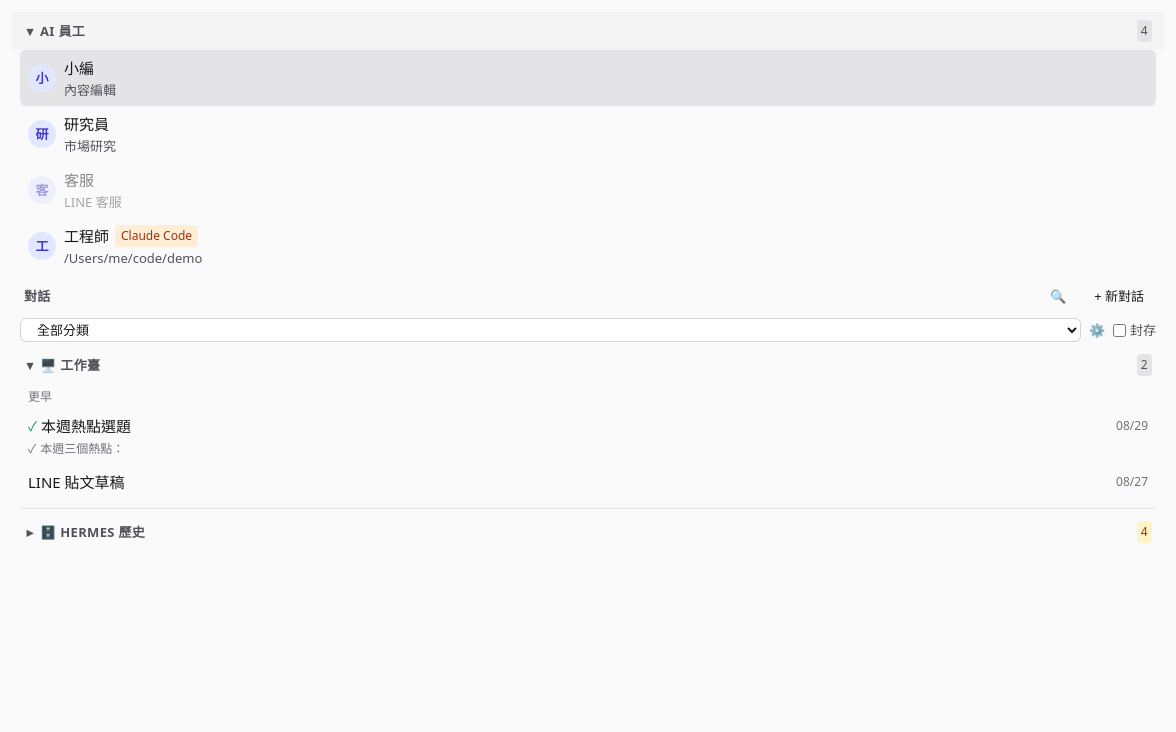
Scenario: 工作臺整合（mock fetch + 假 WebSocket） › 手機版：清單優先，點對話進聊天室，「‹ 對話」回清單
Expected: the element with test id "session-sidebar" is shown, x1=20 y1=280 x2=1156 y2=547
Click the text "本週熱點選題" at coordinates (86, 426), box x1=41 y1=416 x2=131 y2=436
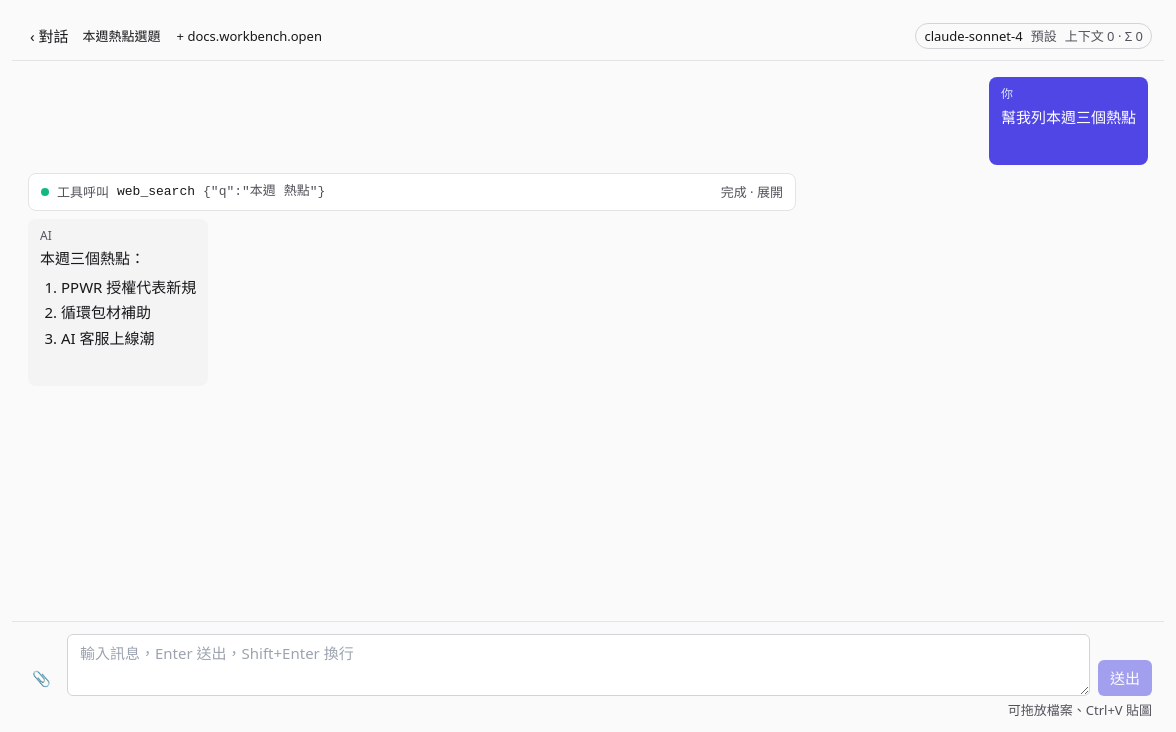
Now the element with test id "message-list" is shown, box x1=12 y1=61 x2=1164 y2=406
Now the button with test id "mobile-back" is shown
Now the element with test id "session-sidebar" is gone
Click the button with test id "mobile-back" at coordinates (49, 36), box x1=24 y1=18 x2=75 y2=54
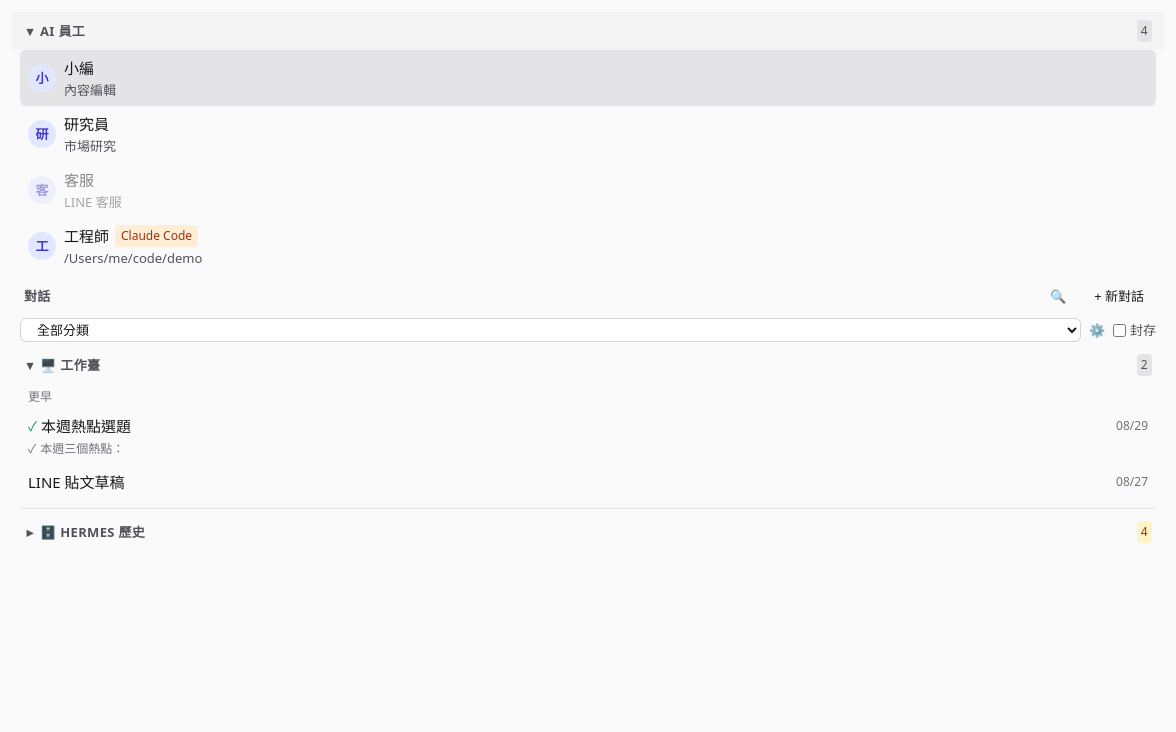
Now the element with test id "session-sidebar" is shown, box x1=20 y1=280 x2=1156 y2=547
Now the element with test id "message-list" is gone
